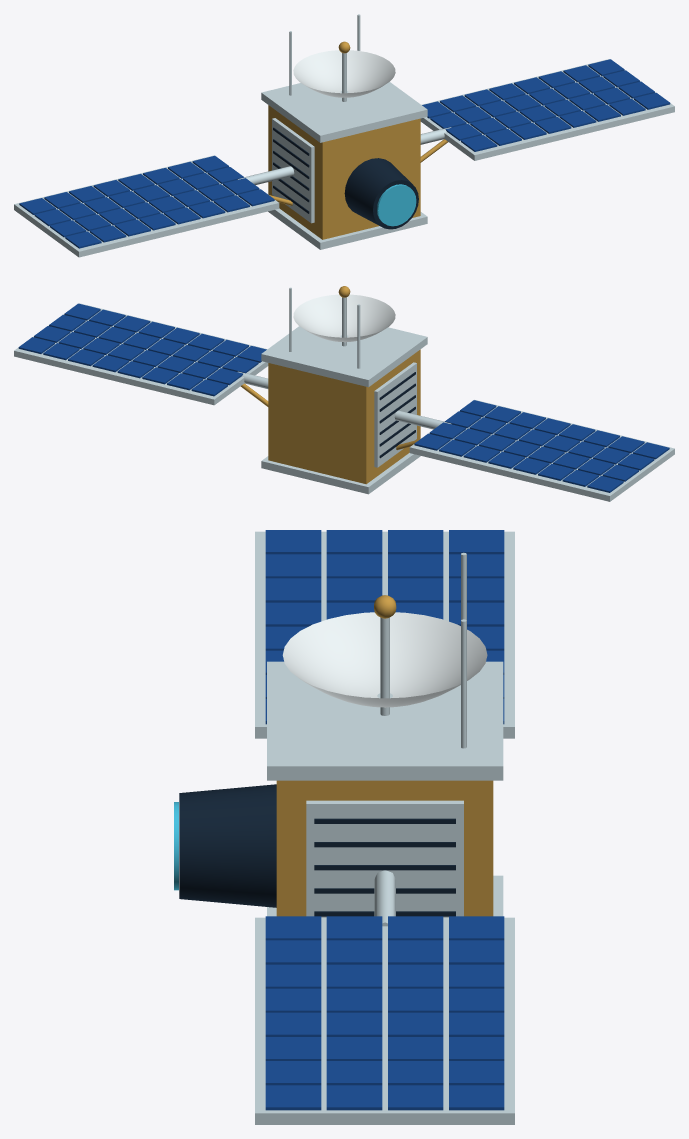
The model's file is satelite-observacion.glb.
3 renders of one model, top to bottom at view 1: azimuth 30°, elevation 25°; view 2: azimuth 150°, elevation 25°; view 3: azimuth 270°, elevation 25°, orthographic. The views are drawn at different scales.
Visible parts, largest first — view 1: Celulas_solares, Aluminio, Aislante_dorado, Antena_ceramica, Instrumentacion, Optica_azul; view 2: Celulas_solares, Aluminio, Aislante_dorado, Antena_ceramica, Instrumentacion; view 3: Celulas_solares, Aluminio, Instrumentacion, Antena_ceramica, Aislante_dorado.
Part boxes in pixels (left/top/right/bottom): Celulas_solares: left=19, top=59, right=670, bottom=248; Aluminio: left=14, top=14, right=674, bottom=257; Aislante_dorado: left=268, top=41, right=447, bottom=239; Antena_ceramica: left=293, top=50, right=395, bottom=97; Instrumentacion: left=273, top=127, right=418, bottom=229; Optica_azul: left=377, top=184, right=416, bottom=226; Celulas_solares: left=18, top=303, right=669, bottom=492; Aluminio: left=14, top=287, right=674, bottom=501; Aislante_dorado: left=240, top=286, right=420, bottom=484; Antena_ceramica: left=293, top=294, right=395, bottom=342; Instrumentacion: left=379, top=372, right=415, bottom=458; Celulas_solares: left=265, top=530, right=504, bottom=1110; Aluminio: left=255, top=531, right=514, bottom=1124; Instrumentacion: left=179, top=784, right=455, bottom=916; Antena_ceramica: left=282, top=612, right=487, bottom=707; Aislante_dorado: left=276, top=595, right=493, bottom=916.
Bounding box in the file's own units: 6.99 × 1.99 × 1.73.
